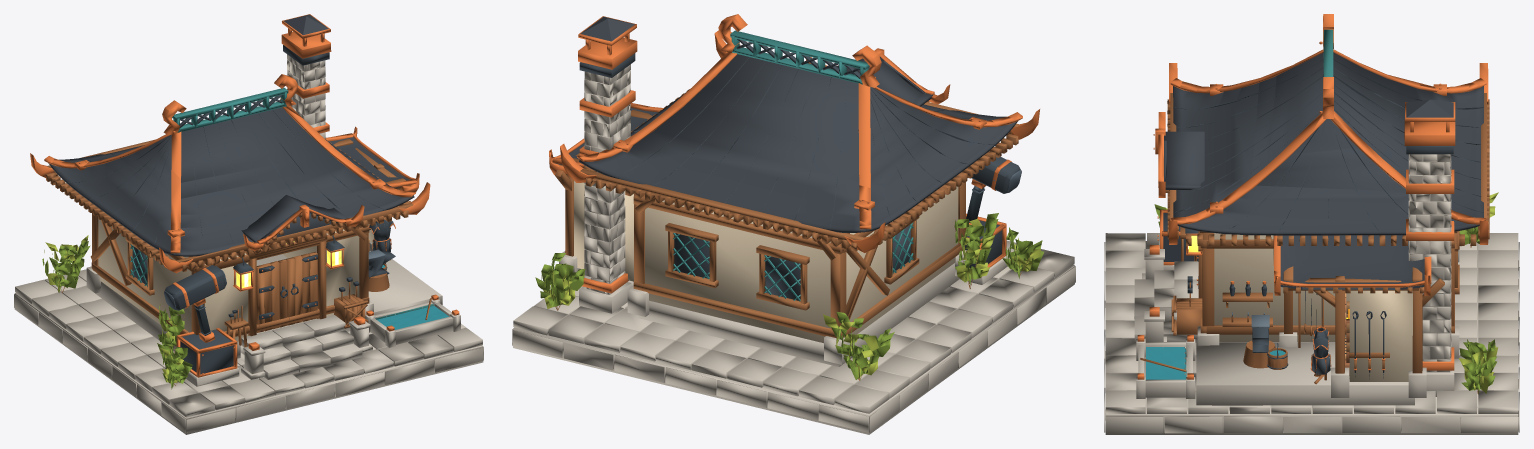
Rendered from forge-lod2-e81bdcfec834.glb.
3 views of the same model, side by side, from view 1: azimuth 30°, elevation 25°; view 2: azimuth 150°, elevation 25°; view 3: azimuth 270°, elevation 25° (orthographic). The views are drawn at different scales.
Visible parts, largest first — view 1: RFbatch_65.027, RFbatch_68.027, RFbatch_42.027, RFbatch_47.027, RFbatch_44.027, RFbatch_2.027, RFbatch_76.027, RFbatch_28.027, RFbatch_51.027, RFbatch_77.027; view 2: RFbatch_65.027, RFbatch_68.027, RFbatch_42.027, RFbatch_2.027, RFbatch_47.027, RFbatch_44.027, RFbatch_76.027, RFbatch_28.027, RFbatch_77.027; view 3: RFbatch_65.027, RFbatch_68.027, RFbatch_42.027, RFbatch_47.027, RFbatch_2.027, RFbatch_44.027, RFbatch_76.027, RFbatch_51.027, RFbatch_77.027, RFbatch_28.027.
Part boxes in pixels (box(x1,y1,x2,y2)): RFbatch_65.027: box(14, 54, 483, 434); RFbatch_68.027: box(48, 14, 414, 256); RFbatch_42.027: box(45, 138, 431, 385); RFbatch_47.027: box(30, 14, 459, 377); RFbatch_44.027: box(68, 45, 395, 374); RFbatch_2.027: box(98, 219, 373, 341); RFbatch_76.027: box(42, 241, 192, 389); RFbatch_28.027: box(130, 87, 433, 319); RFbatch_51.027: box(377, 265, 448, 329); RFbatch_77.027: box(44, 235, 183, 383); RFbatch_65.027: box(512, 64, 1075, 434); RFbatch_68.027: box(554, 16, 1017, 232); RFbatch_42.027: box(543, 89, 1031, 380); RFbatch_2.027: box(574, 181, 958, 343); RFbatch_47.027: box(549, 14, 1039, 293); RFbatch_44.027: box(579, 39, 1020, 300); RFbatch_76.027: box(535, 213, 1044, 379); RFbatch_28.027: box(673, 30, 913, 301); RFbatch_77.027: box(543, 219, 1040, 380); RFbatch_65.027: box(1104, 154, 1519, 434); RFbatch_68.027: box(1164, 52, 1483, 289); RFbatch_42.027: box(1140, 93, 1489, 393); RFbatch_47.027: box(1137, 14, 1488, 379); RFbatch_2.027: box(1214, 233, 1412, 381); RFbatch_44.027: box(1163, 59, 1483, 379); RFbatch_76.027: box(1154, 204, 1496, 393); RFbatch_51.027: box(1146, 347, 1285, 379); RFbatch_77.027: box(1164, 192, 1498, 393); RFbatch_28.027: box(1185, 29, 1333, 379).
Size of the model in its own units: 10.23 by 8.29 by 10.03.
Materials: 21 (12 with a texture image).
